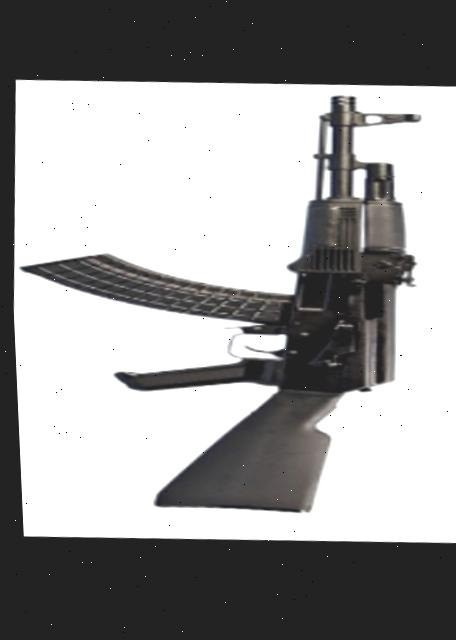rifle: (3, 74, 443, 548)
